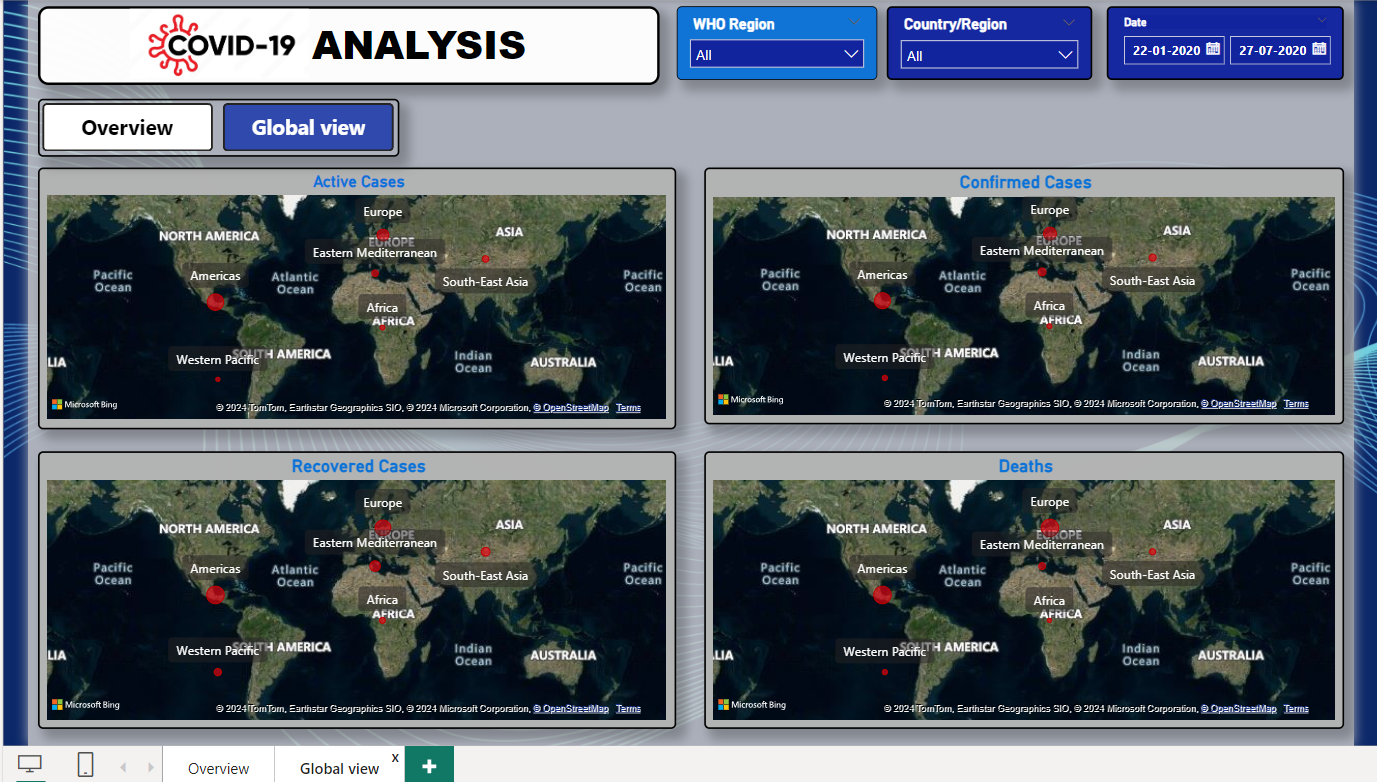

Layout of this report page (visuals, bound fields, positions):
{"tool":"powerbi","page":{"name":"Global view","canvas":[1280,720],"ordinal":1},"visuals":[{"type":"map","title":"Active Cases","fields":{"Category":["covid_19_clean_complete.WHO Region"],"Size":["Sum(covid_19_clean_complete.Active)"]},"box":[10.1,161.6,616.1,252.5],"z":0},{"type":"map","title":"Confirmed Cases","fields":{"Category":["covid_19_clean_complete.WHO Region"],"Size":["Sum(covid_19_clean_complete.Confirmed)"]},"box":[652.1,161.6,617.5,248.2],"z":1000},{"type":"map","title":"Deaths","fields":{"Category":["covid_19_clean_complete.WHO Region"],"Size":["Sum(covid_19_clean_complete.Deaths)"]},"box":[652.1,435.7,617.5,268.4],"z":2000},{"type":"map","title":"Recovered Cases","fields":{"Category":["covid_19_clean_complete.WHO Region"],"Size":["Sum(covid_19_clean_complete.Recovered)"]},"box":[10.1,435.7,616.1,268.4],"z":3000},{"type":"textbox","box":[9.7,6,599.6,76],"z":4000},{"type":"slicer","fields":{"Values":["covid_19_clean_complete.WHO Region"]},"box":[625.8,6.1,193.7,71.4],"z":5000},{"type":"slicer","fields":{"Values":["covid_19_clean_complete.Country/Region"]},"box":[829.2,6.1,198.5,71.4],"z":6000},{"type":"slicer","fields":{"Values":["covid_19_clean_complete.Date"]},"box":[1041,6.1,228.8,71.4],"z":7000},{"type":"pageNavigator","box":[9.7,95.6,348.6,55.7],"z":8000},{"type":"image","box":[68.8,3.6,231.6,77.2],"z":9000}]}

Visuals, with their boxes in screenshot pixels (x1, y1, x2, y2):
"Active Cases" map: bbox=(43, 162, 673, 420)
"Confirmed Cases" map: bbox=(700, 162, 1331, 416)
"Deaths" map: bbox=(700, 442, 1331, 717)
"Recovered Cases" map: bbox=(43, 442, 673, 717)
textbox: bbox=(42, 3, 656, 80)
slicer - covid_19_clean_complete.WHO Region: bbox=(673, 3, 871, 76)
slicer - covid_19_clean_complete.Country/Region: bbox=(881, 3, 1084, 76)
slicer - covid_19_clean_complete.Date: bbox=(1098, 3, 1332, 76)
pageNavigator: bbox=(42, 94, 399, 151)
image: bbox=(103, 0, 340, 79)
